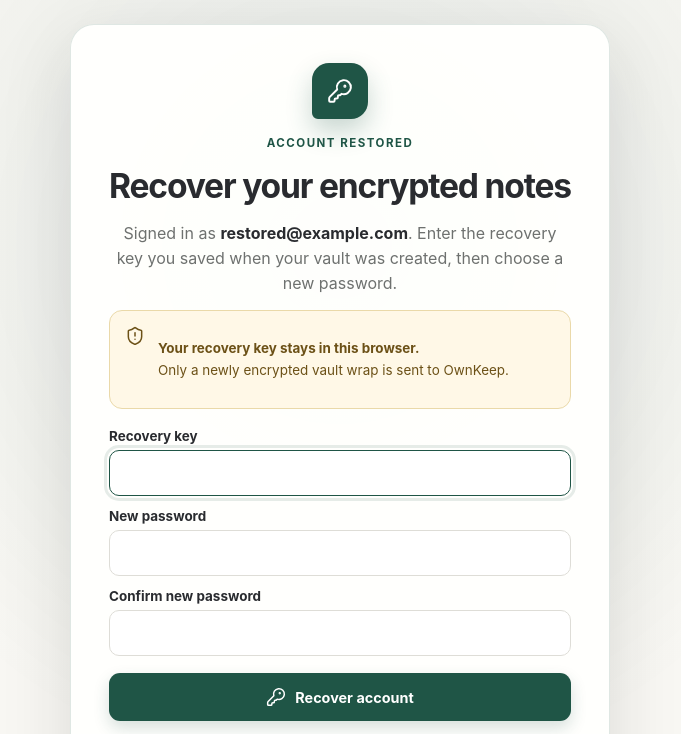
Test case: RestoredUserRecovery › requires matching new passwords before running crypto
Type "browser-only-key" into the field labelled "Recovery key" at (340, 473), box [109,450,571,496]
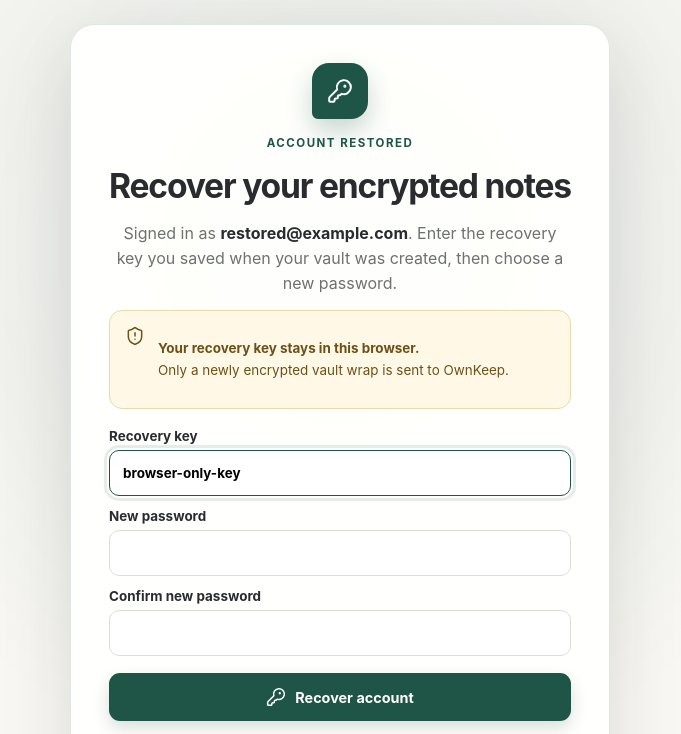
Type "first-password" into the password field labelled "New password" at (340, 553), box [109,530,571,576]
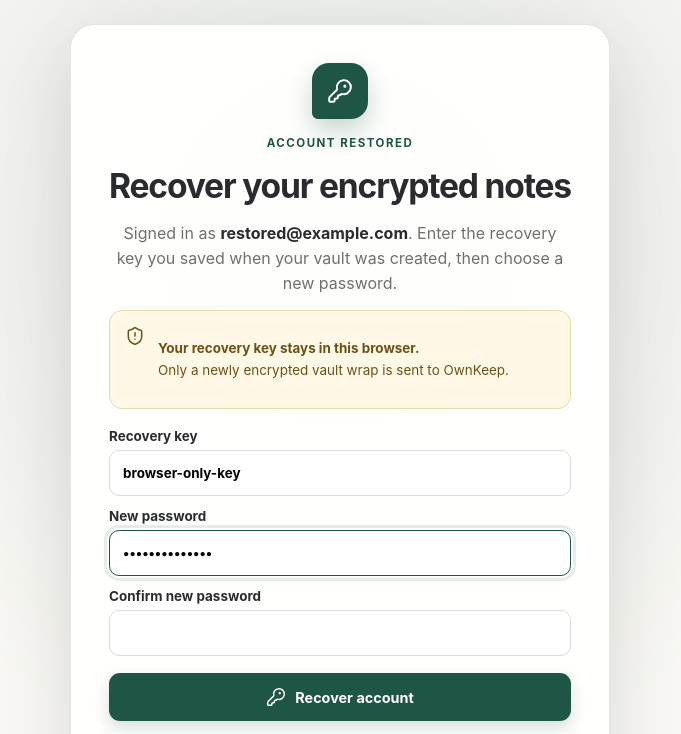
Type "different-password" into the password field labelled "Confirm new password" at (340, 633), box [109,610,571,656]
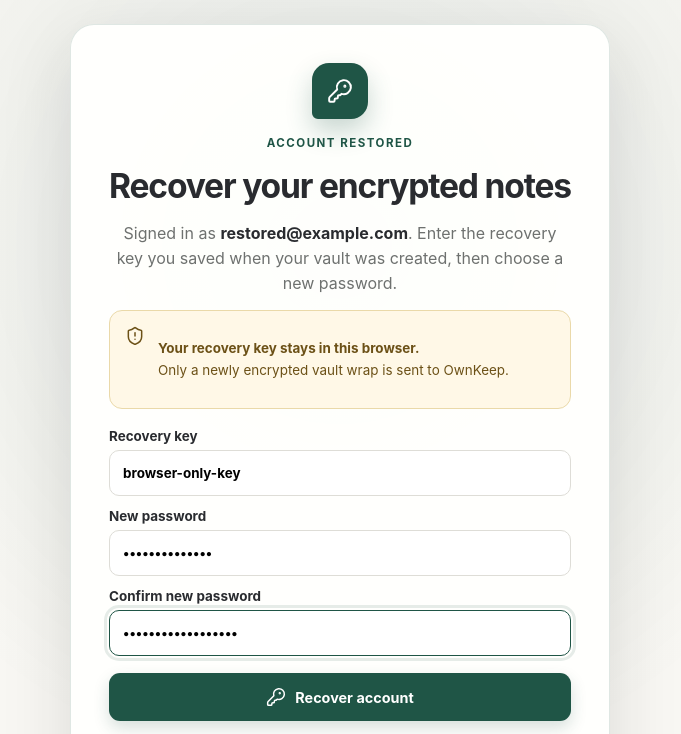
Click the button "Recover account" at (340, 697), box [109,673,571,721]
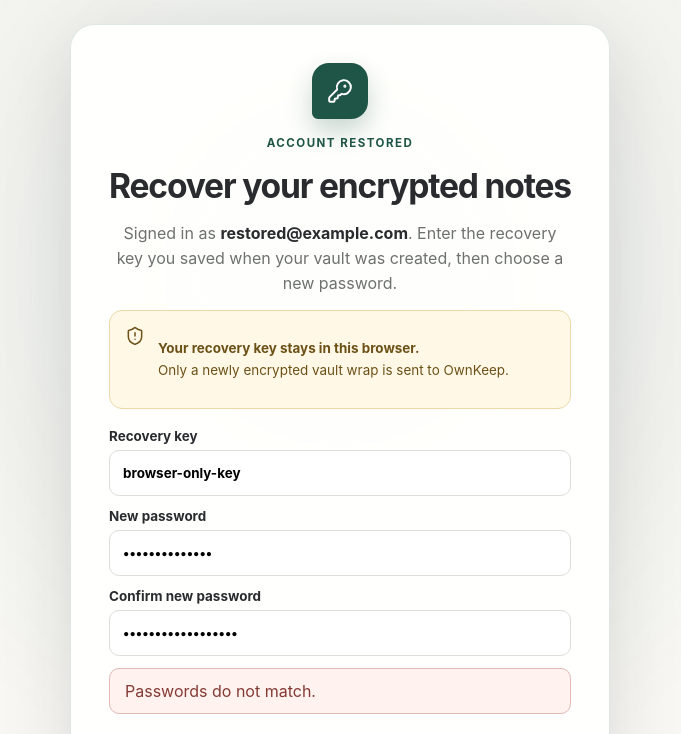
Result: the message shows "Passwords do not match" at [125,681,316,701]
